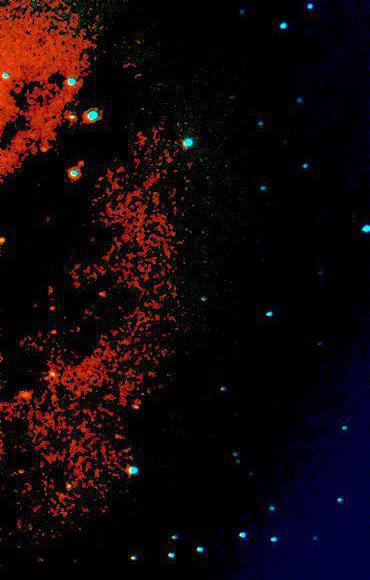star: (66, 149, 96, 179)
